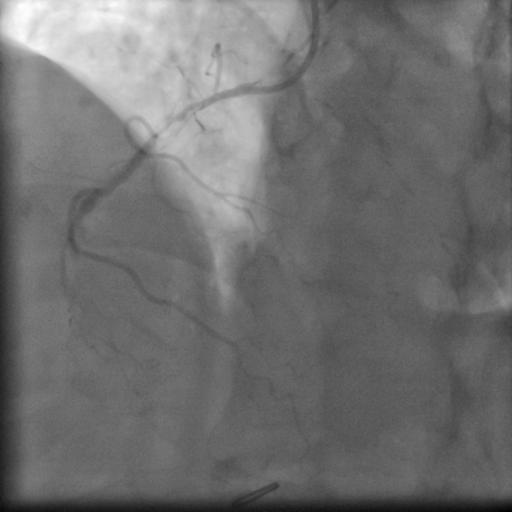Stenosis: (145, 112, 185, 142)
